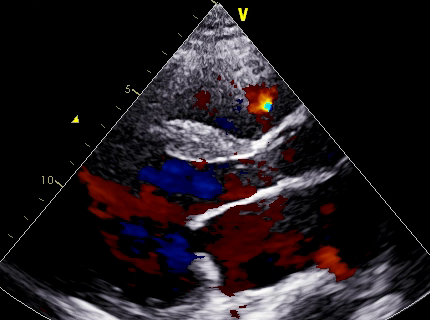AR: (158, 156, 281, 209)
